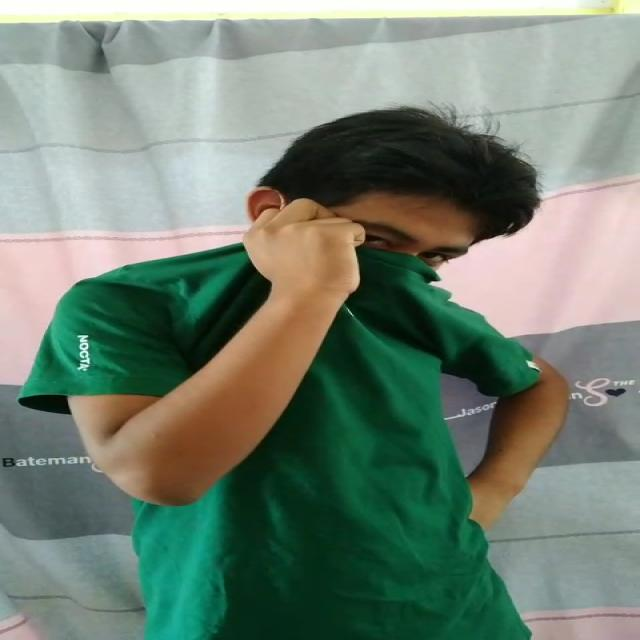8_ropa_rostro: (224, 224, 456, 340)
